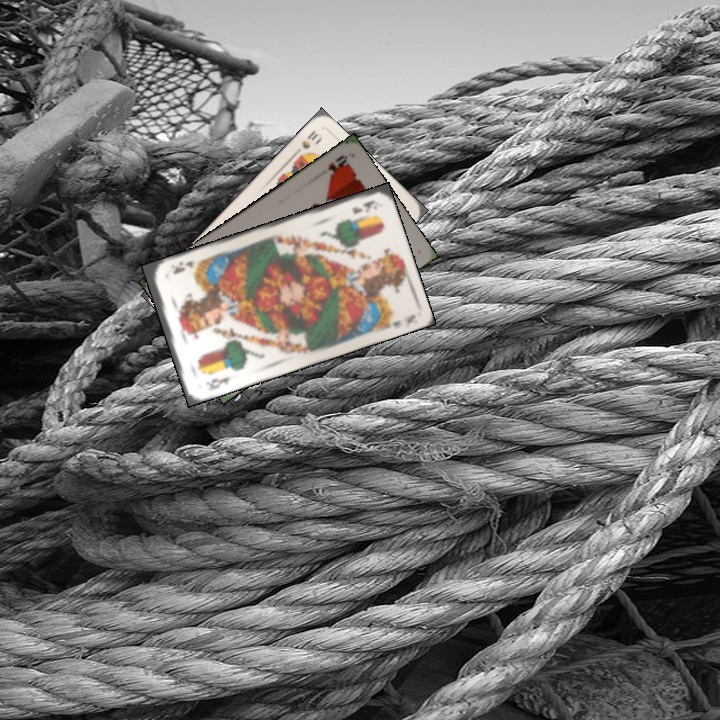EK: (202, 373, 233, 393), (349, 196, 377, 217)
HO: (324, 151, 350, 178)
S10: (290, 126, 325, 159)
